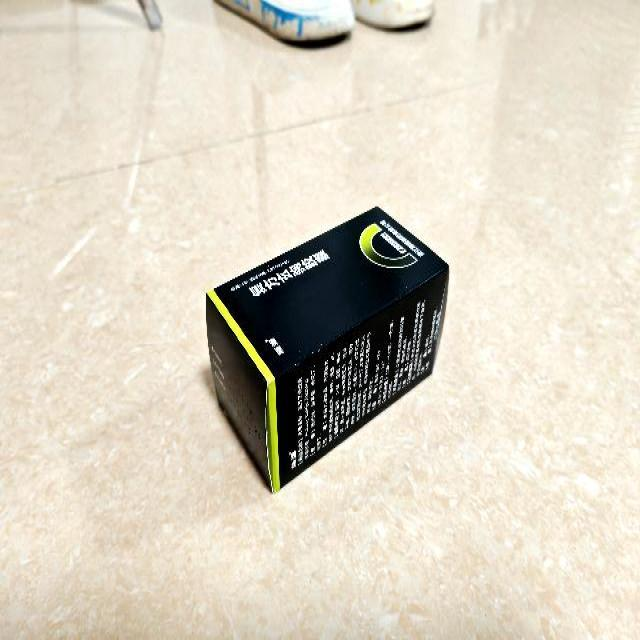box: (206, 205, 450, 494)
